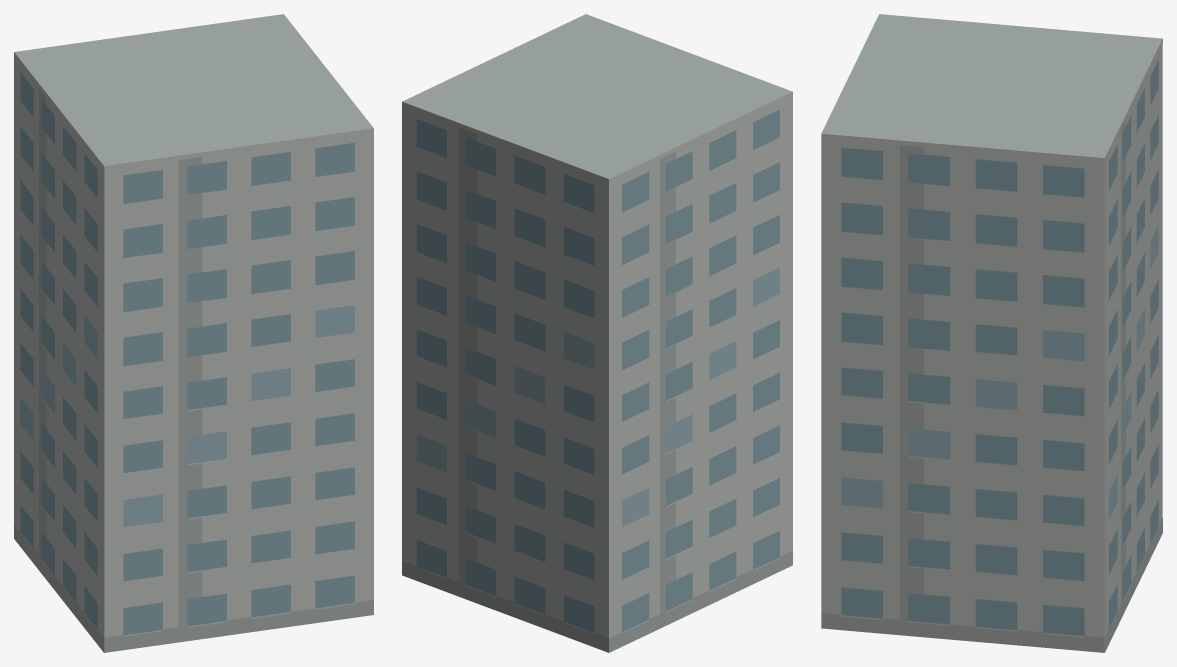
The model's file is residential-03f60c67-4df4-405d-abd4-1c9ffeb30e30.glb.
The picture shows the model from 3 angles, left to right: view 1: azimuth 30°, elevation 25°; view 2: azimuth 150°, elevation 25°; view 3: azimuth 270°, elevation 25°; orthographic projection. The views are drawn at different scales.
Parts seen in each view (by area): view 1: residential-03f60c67-4df4-405d-abd4-1c9ffeb30e30.tmp; view 2: residential-03f60c67-4df4-405d-abd4-1c9ffeb30e30.tmp; view 3: residential-03f60c67-4df4-405d-abd4-1c9ffeb30e30.tmp.
Part boxes in pixels (x1,y1,x2,y2): residential-03f60c67-4df4-405d-abd4-1c9ffeb30e30.tmp: (14,14,373,652); residential-03f60c67-4df4-405d-abd4-1c9ffeb30e30.tmp: (402,14,792,652); residential-03f60c67-4df4-405d-abd4-1c9ffeb30e30.tmp: (821,14,1162,652).
Bounding box in the file's own units: 16.26 × 26 × 16.28.
